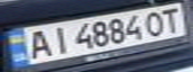4: (121, 11, 148, 40), (72, 20, 93, 51)
8: (90, 18, 112, 47), (106, 16, 127, 45)
A: (18, 28, 54, 61)
I: (45, 24, 72, 55)
O: (139, 8, 169, 37)
T: (157, 6, 187, 34)
